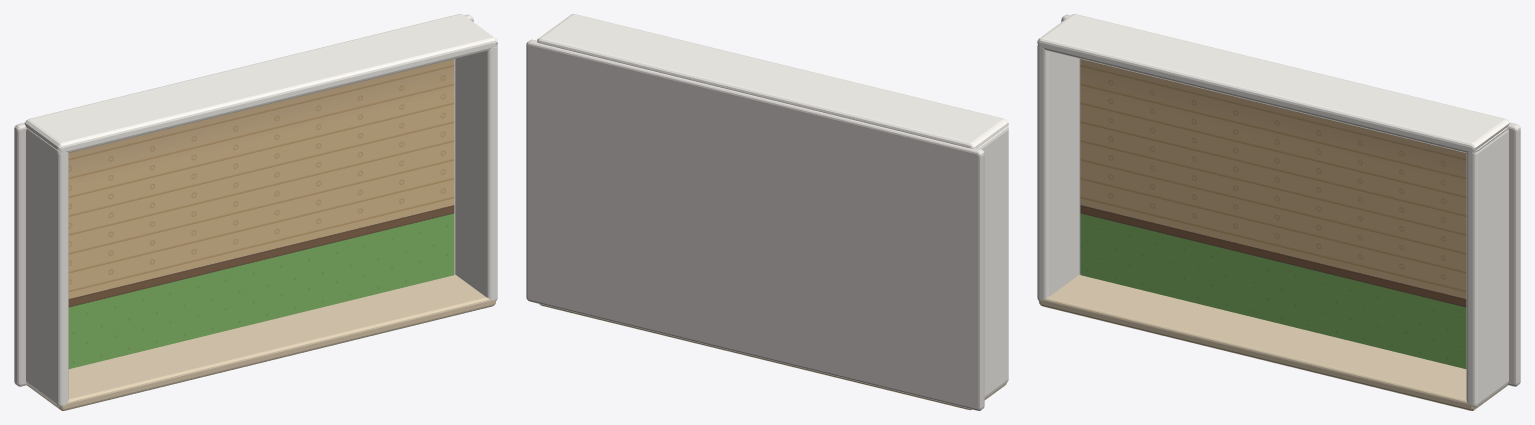
The model's file is room_forest.glb.
The picture shows the model from 3 angles, left to right: view 1: azimuth 30°, elevation 25°; view 2: azimuth 150°, elevation 25°; view 3: azimuth 330°, elevation 25°; orthographic projection.
Parts seen in each view (by area): view 1: room_forest; view 2: room_forest; view 3: room_forest.
Boxes of the visible parts, box(x1,y1,x2,y2) form: room_forest: box(14, 14, 497, 410); room_forest: box(526, 14, 1008, 410); room_forest: box(1037, 14, 1520, 410).
Bounding box in the file's own units: 66 × 37 × 9.4.
Materials: 4 (1 with a texture image).
